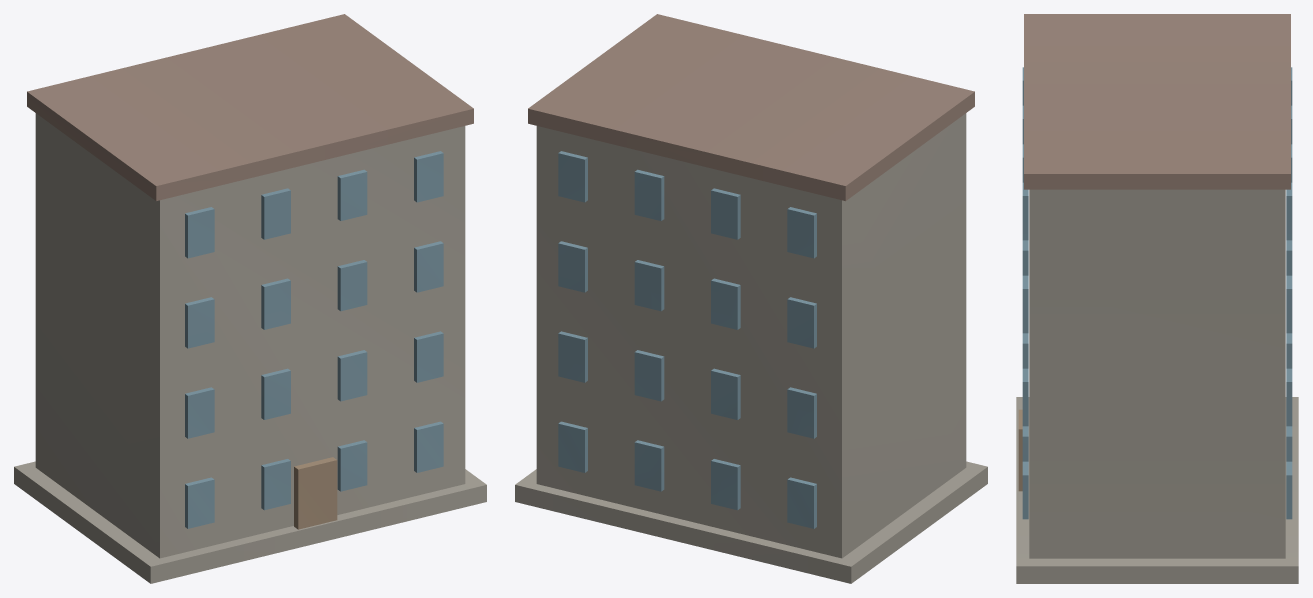
File: apartment-07.glb
The picture shows the model from 3 angles, left to right: view 1: azimuth 30°, elevation 25°; view 2: azimuth 150°, elevation 25°; view 3: azimuth 270°, elevation 25°; orthographic projection. The views are drawn at different scales.
Visible parts, largest first — view 1: world; view 2: world; view 3: world.
Boxes of the visible parts, x1,y1,x2,y2 form: world: (14,14,486,583); world: (515,14,987,583); world: (1016,14,1298,583).
Bounding box in the file's own units: 1.64 × 1.83 × 1.15.
